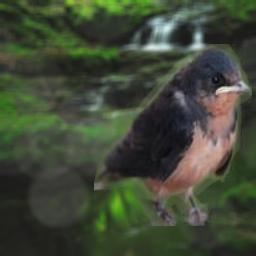Swallow: (94, 44, 252, 226)
